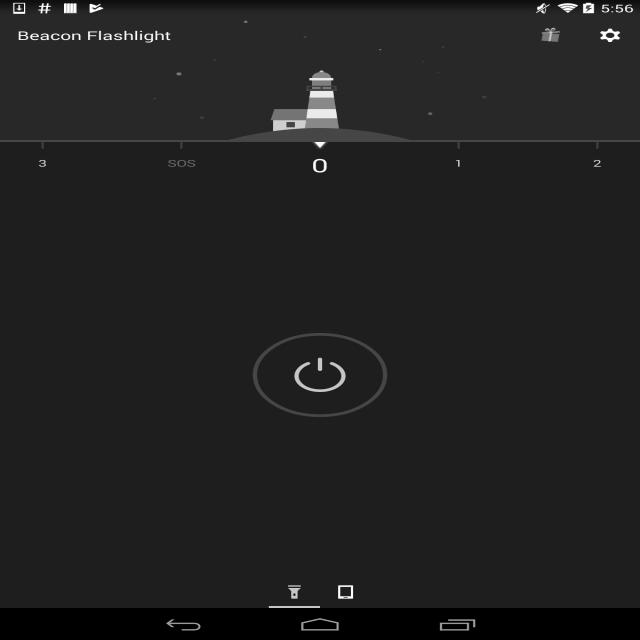ImageView: (140, 42, 498, 140), (153, 21, 486, 119), (580, 17, 640, 54), (282, 584, 307, 600), (333, 584, 358, 600), (310, 138, 330, 149), (542, 33, 560, 42), (540, 28, 561, 34)
TextView: (160, 123, 480, 199), (101, 142, 262, 180), (378, 142, 538, 180), (0, 142, 123, 180), (517, 142, 640, 180), (17, 27, 171, 43)
